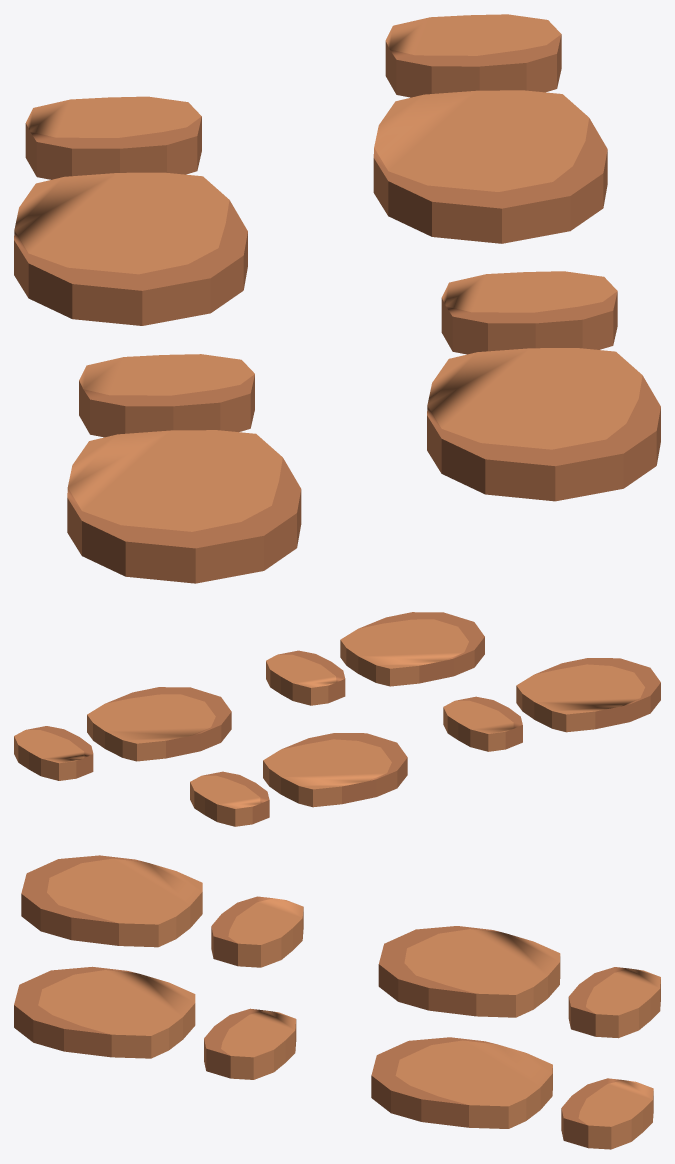
File: NPC_Footprints_005.glb
The picture shows the model from 3 angles, top to bottom: view 1: azimuth 30°, elevation 25°; view 2: azimuth 150°, elevation 25°; view 3: azimuth 270°, elevation 25°; orthographic projection. The views are drawn at different scales.
Visible parts, largest first — view 1: NPC_Footprints_005_mesh; view 2: NPC_Footprints_005_mesh; view 3: NPC_Footprints_005_mesh.
Boxes of the visible parts, box(x1,y1,x2,y2) form: NPC_Footprints_005_mesh: box(14, 14, 660, 583); NPC_Footprints_005_mesh: box(14, 612, 660, 826); NPC_Footprints_005_mesh: box(14, 855, 660, 1149).
Size of the model in its own units: 1.42 by 0.0554 by 1.43.
1 material, 1 textured.
